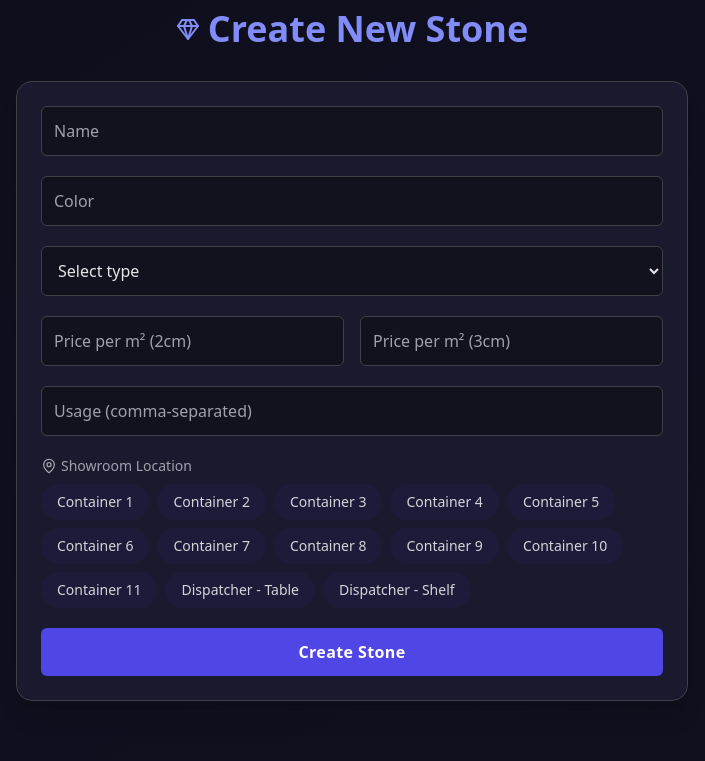
Test case: shows success message when stone is created
Type "Taj Mahal" into the field with placeholder "Name" at (352, 131), box [41,106,663,156]
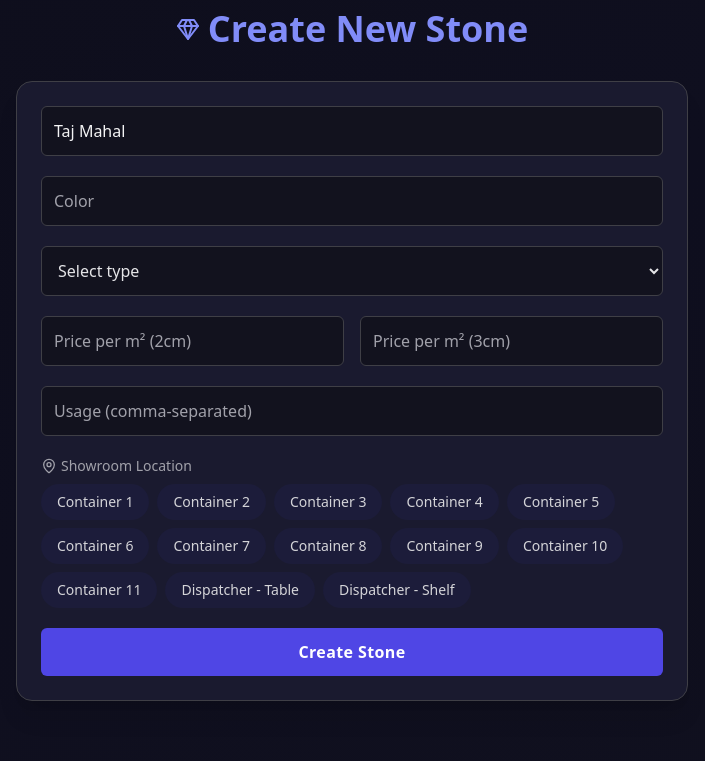
Type "Beige" into the field with placeholder "Color" at (352, 201), box [41,176,663,226]
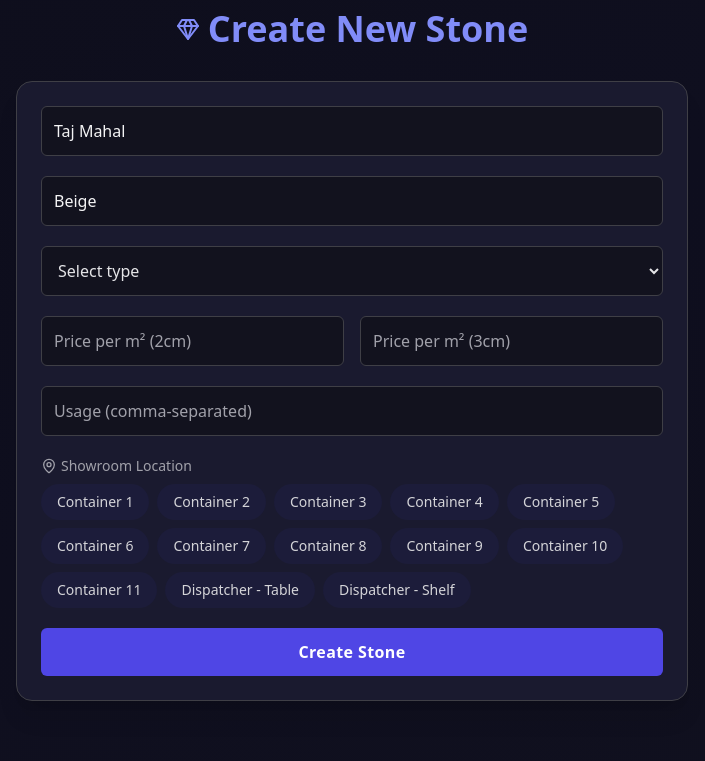
Type "kitchen" into the field with placeholder "Usage (comma-separated)" at (352, 411), box [41,386,663,436]
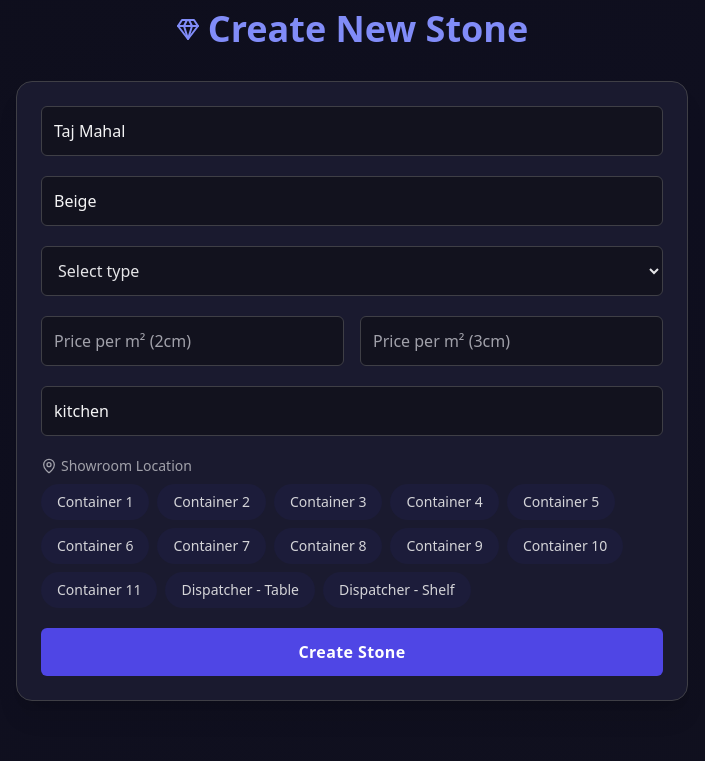
Select "granite" in the dropdown showing "Select type" at (352, 271), box [41,246,663,296]
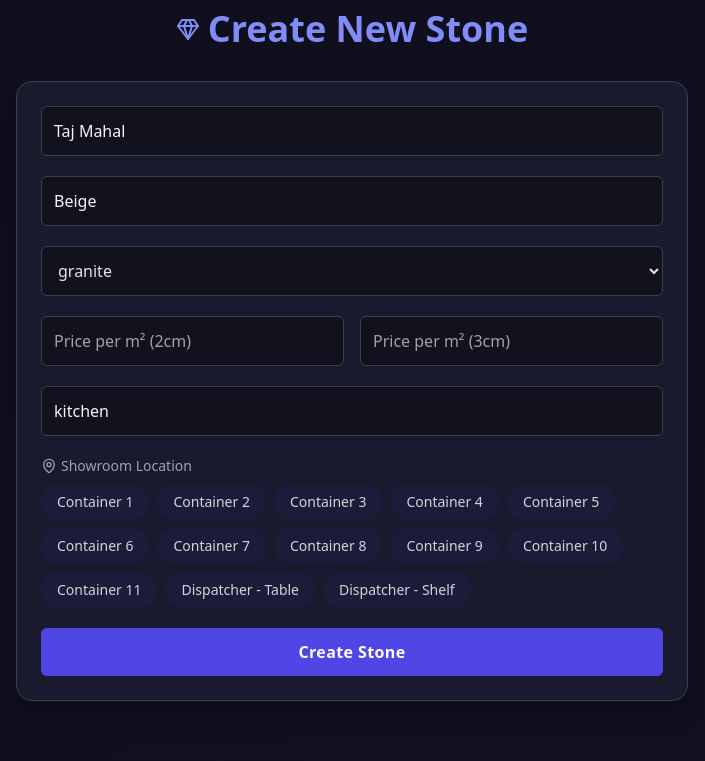
Click the button "Create Stone" at (352, 652), box [41,628,663,676]
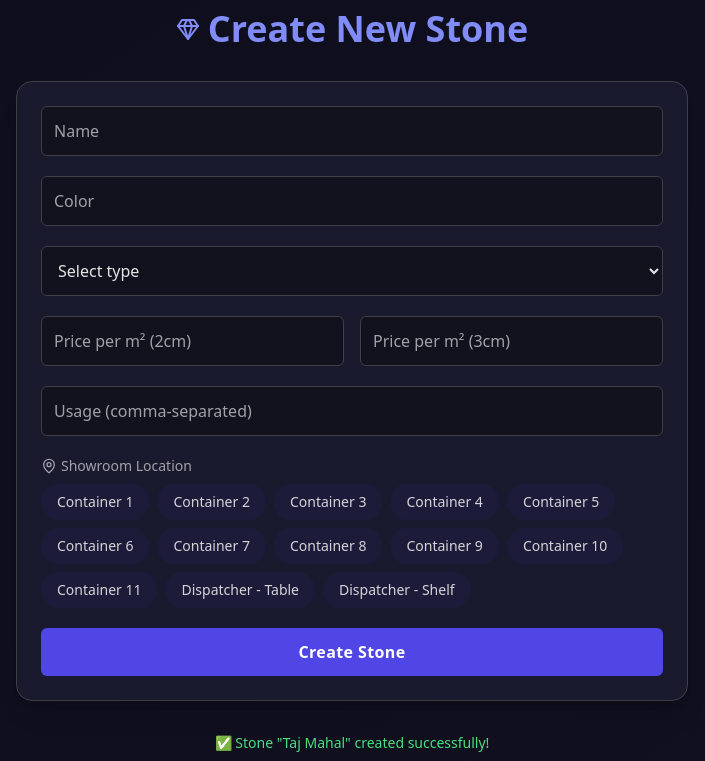
Check: the text "✅ Stone \"Taj Mahal\" created successfully!" is shown, box [215,733,489,752]
